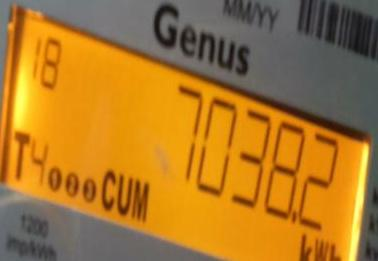.: (296, 231, 348, 261)
0: (288, 209, 299, 227)
1: (196, 98, 238, 202)
3: (299, 134, 347, 232)
4: (228, 109, 273, 211)
8: (175, 83, 205, 185)
9: (262, 122, 307, 226)
